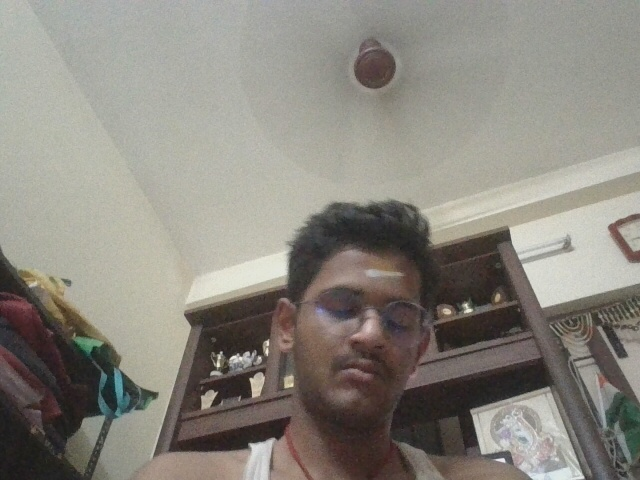real: (289, 246, 446, 403)
